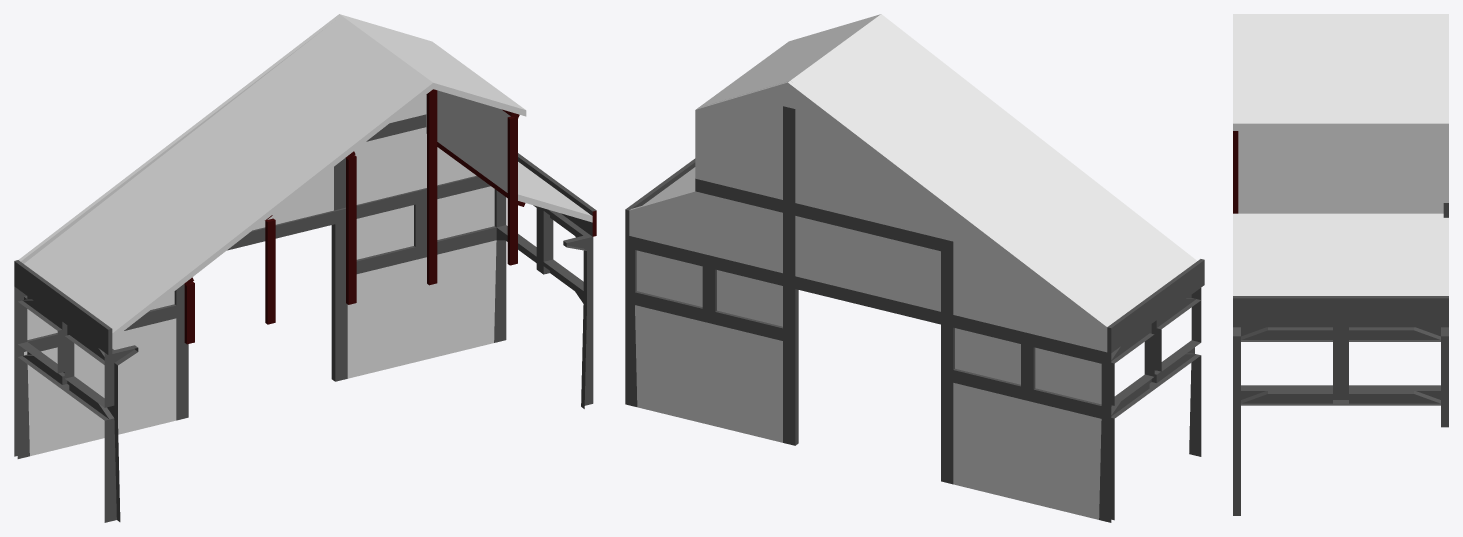
File: SM_Factory_B.fbx
3 renders of one model, left to right at view 1: azimuth 30°, elevation 25°; view 2: azimuth 150°, elevation 25°; view 3: azimuth 270°, elevation 25°, orthographic. The views are drawn at different scales.
Parts seen in each view (by area): view 1: Factory_Frame_B, Factory_PillarsAndBeams_B; view 2: Factory_Frame_B, Factory_PillarsAndBeams_B; view 3: Factory_Frame_B, Factory_PillarsAndBeams_B.
Boxes of the visible parts, bbox=[...] form: Factory_Frame_B: bbox=[14, 14, 596, 354]; Factory_PillarsAndBeams_B: bbox=[14, 175, 593, 522]; Factory_Frame_B: bbox=[625, 14, 1204, 353]; Factory_PillarsAndBeams_B: bbox=[625, 235, 1201, 522]; Factory_Frame_B: bbox=[1233, 14, 1448, 327]; Factory_PillarsAndBeams_B: bbox=[1233, 327, 1448, 515].
Size of the model in its own units: 12 by 4 by 8.53.
